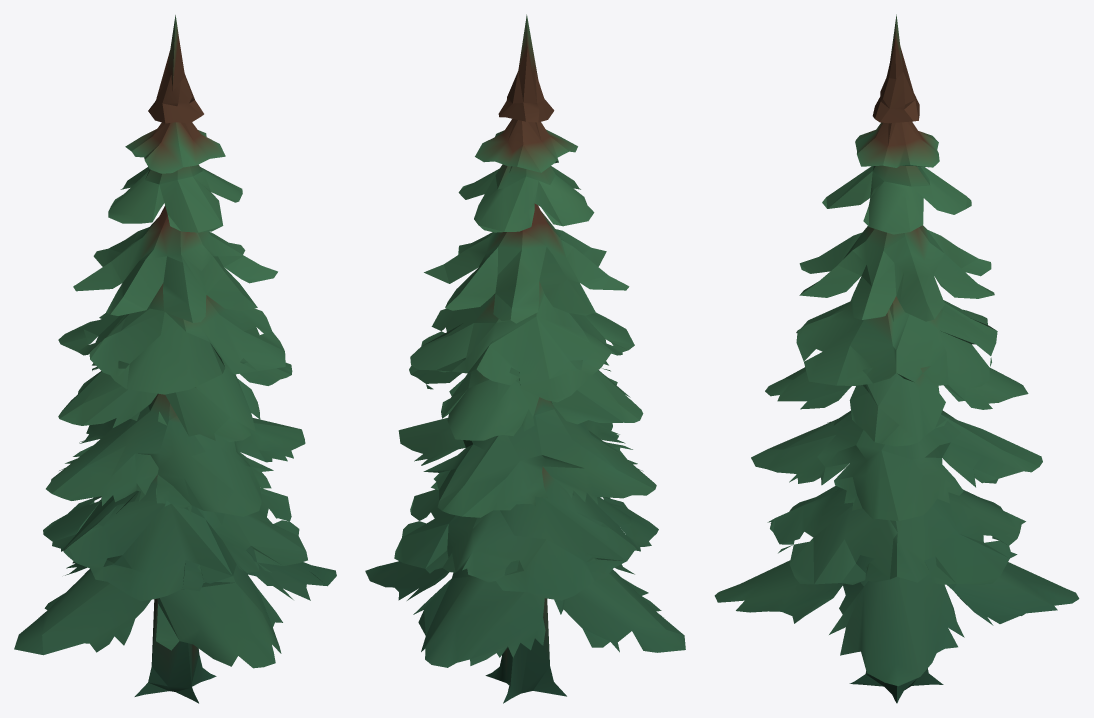
The picture shows the model from 3 angles, left to right: view 1: azimuth 30°, elevation 25°; view 2: azimuth 150°, elevation 25°; view 3: azimuth 270°, elevation 25°; orthographic projection.
Visible parts, largest first — view 1: output_unwrapped; view 2: output_unwrapped; view 3: output_unwrapped.
Boxes of the visible parts, <box> form: output_unwrapped: <box>14,15,336,703</box>; output_unwrapped: <box>365,14,685,703</box>; output_unwrapped: <box>714,14,1079,703</box>.
Bounding box in the file's own units: 0.948 × 1.9 × 0.936.
